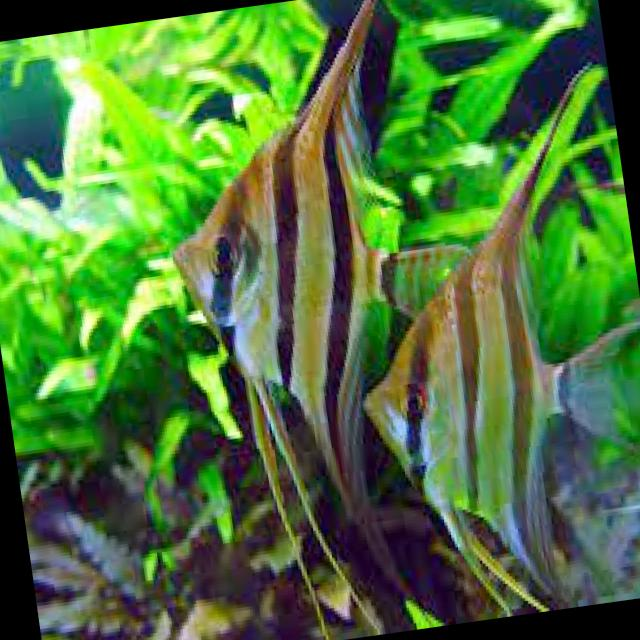AngelFish: (139, 0, 441, 639), (315, 61, 640, 618)
